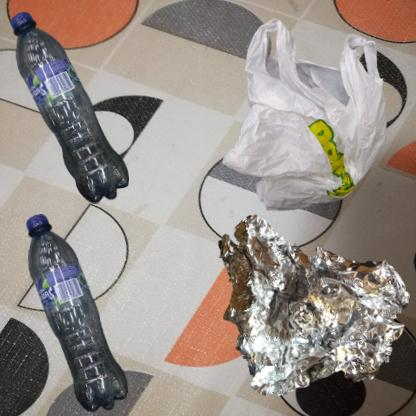aluminio: (213, 213, 412, 401)
bolsa: (213, 10, 416, 246)
botella: (10, 213, 146, 416), (10, 10, 129, 206)
